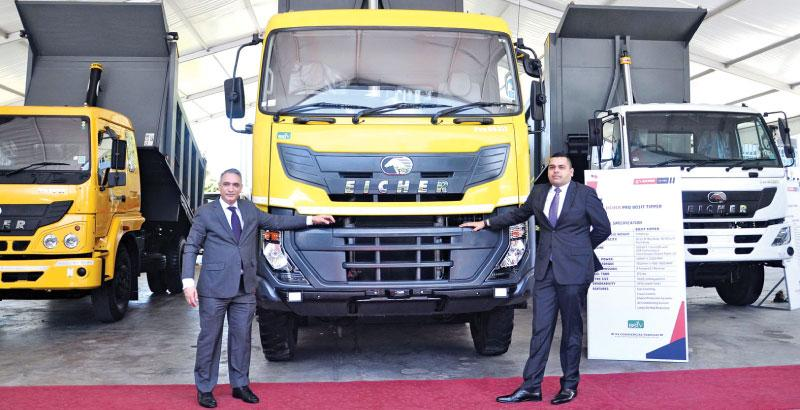truck: (224, 1, 545, 361), (550, 1, 794, 305), (1, 1, 206, 320)
